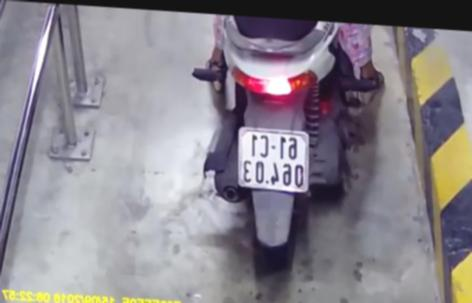License_Plate: (231, 123, 313, 200)
